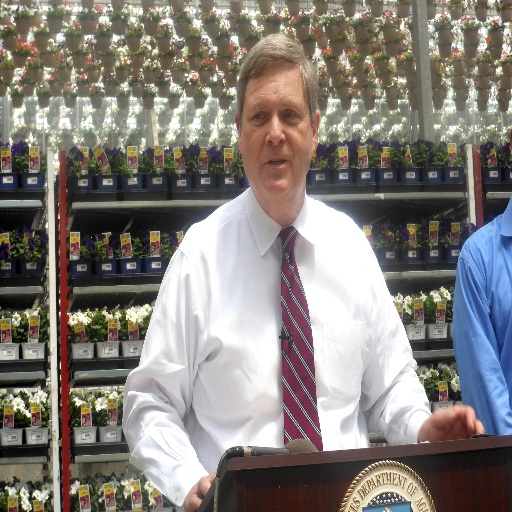hand: (417, 395, 496, 450), (183, 472, 217, 511)
